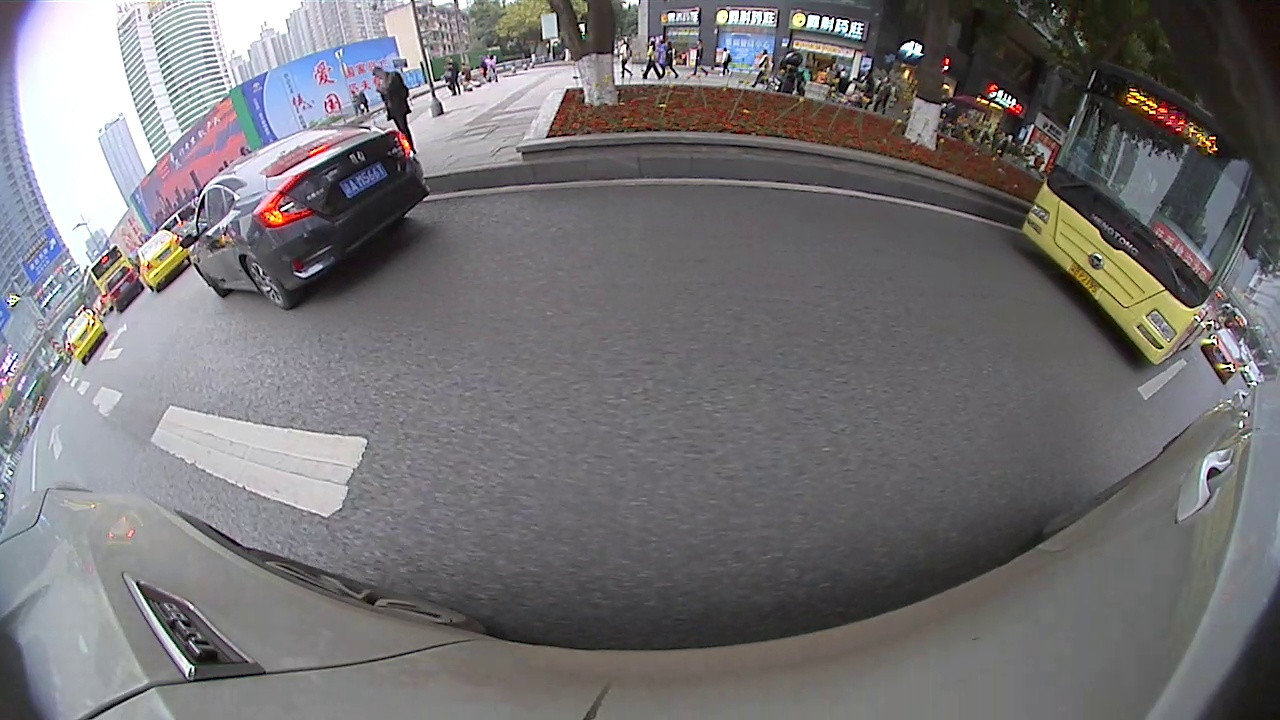bus: (1012, 48, 1264, 373)
car: (176, 118, 432, 313), (134, 224, 193, 296), (57, 306, 111, 365), (1204, 324, 1248, 389)
person: (369, 57, 426, 152)
rear: (239, 257, 296, 310)
